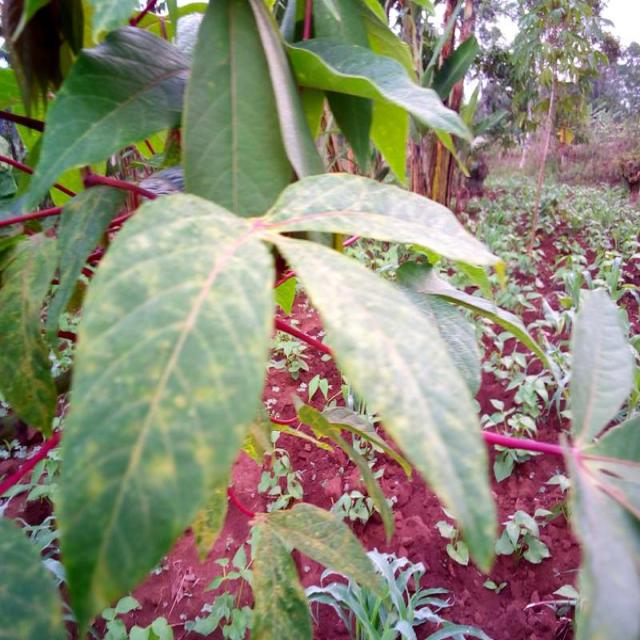cassava leaf: (54, 190, 276, 635), (262, 227, 500, 576), (181, 0, 326, 220)
